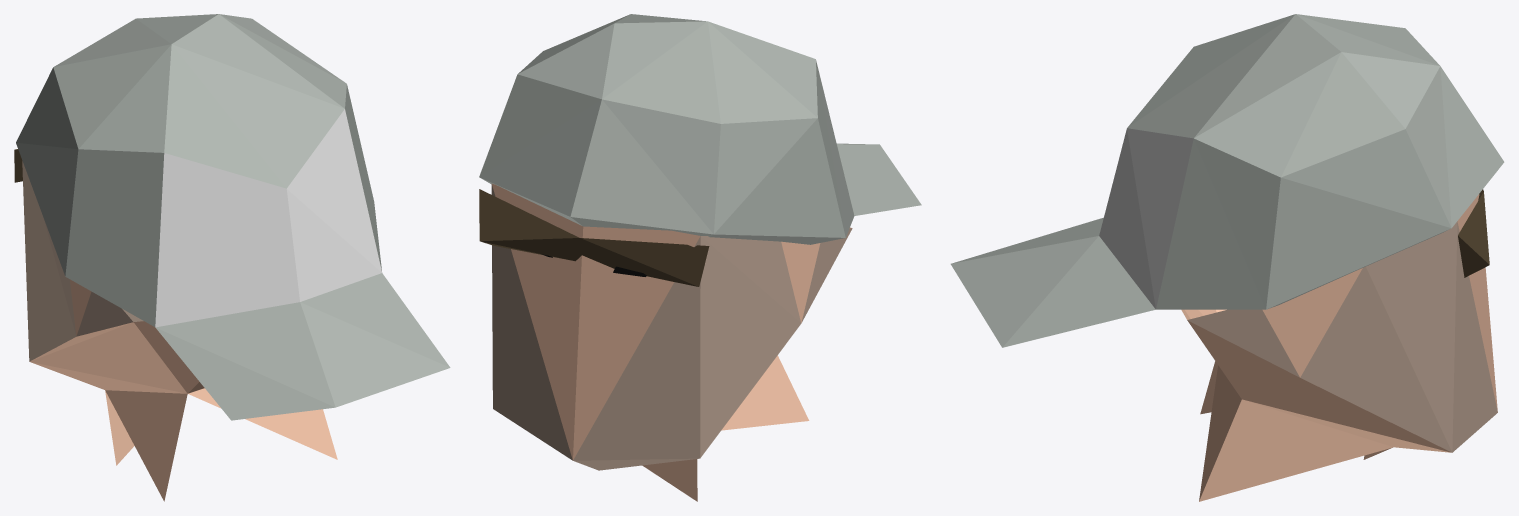
File: Head_Lo.obj
3 renders of one model, left to right at view 1: azimuth 30°, elevation 25°; view 2: azimuth 150°, elevation 25°; view 3: azimuth 270°, elevation 25°, orthographic. The views are drawn at different scales.
Size of the model in its own units: 0.2742 by 0.3735 by 0.4099.
Materials: 1 (1 with a texture image).
